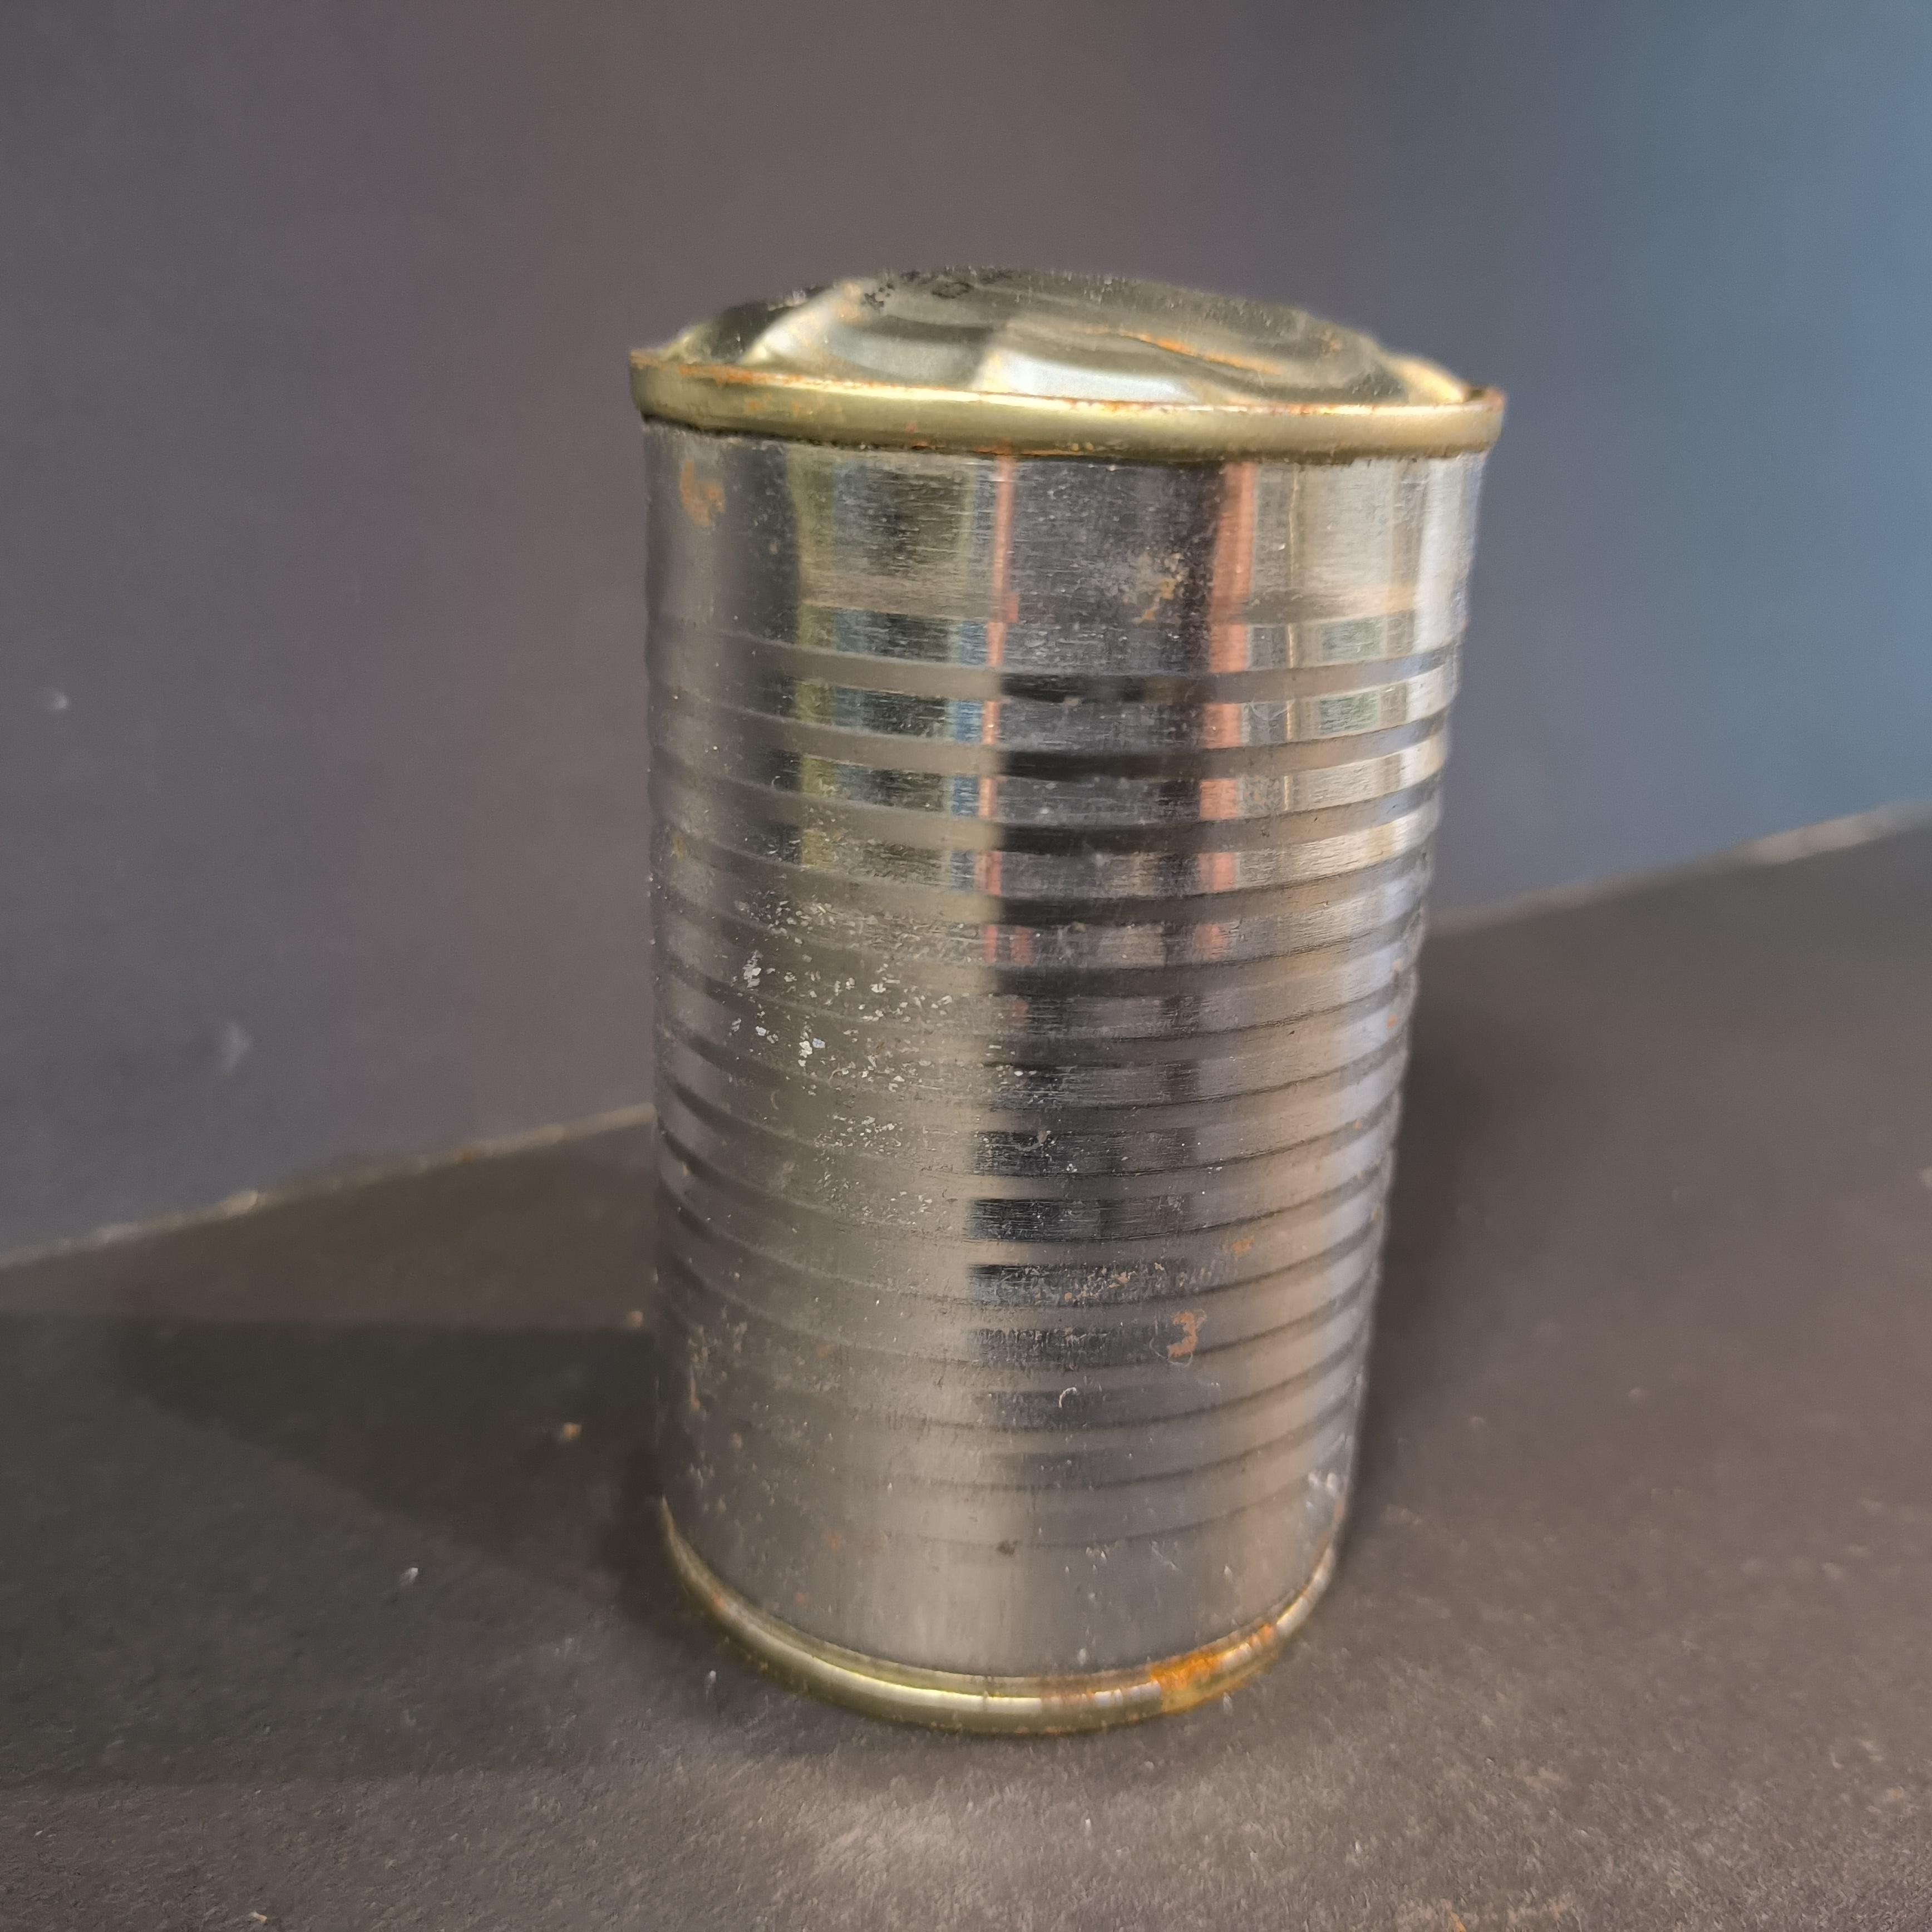Critical Defect: (619, 256, 1514, 1733)
